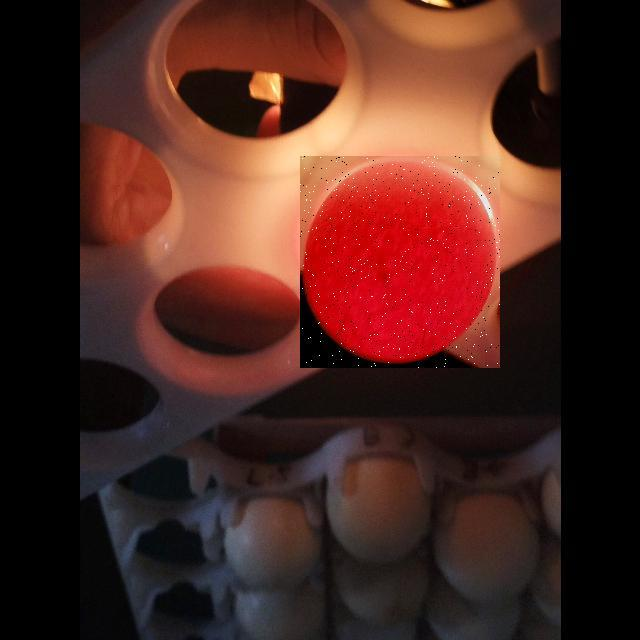Infertile: (300, 156, 500, 368)
